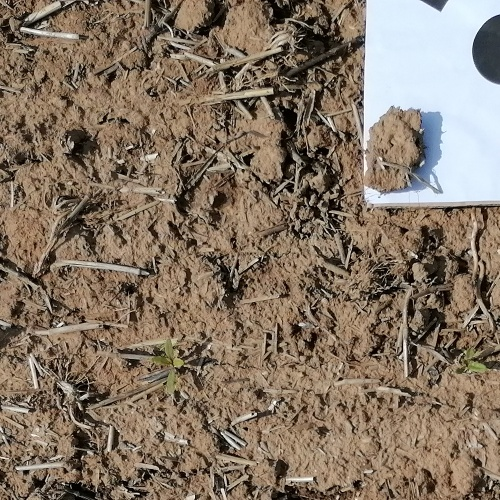beet: (151, 339, 186, 392), (466, 350, 488, 376)
